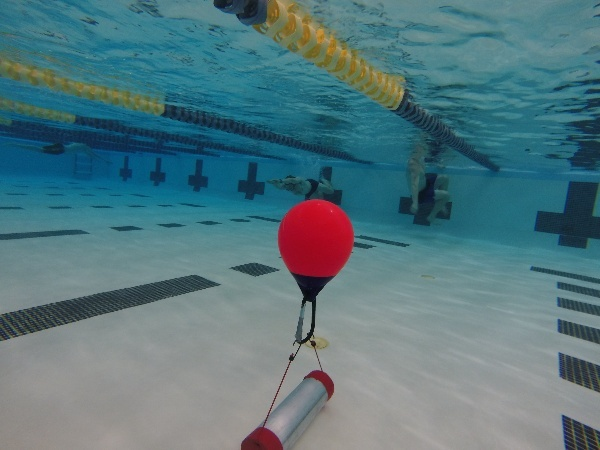buoy_red: (268, 196, 359, 310)
